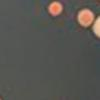orange: (44, 0, 62, 18)
white: (75, 5, 94, 30), (91, 15, 100, 38)
